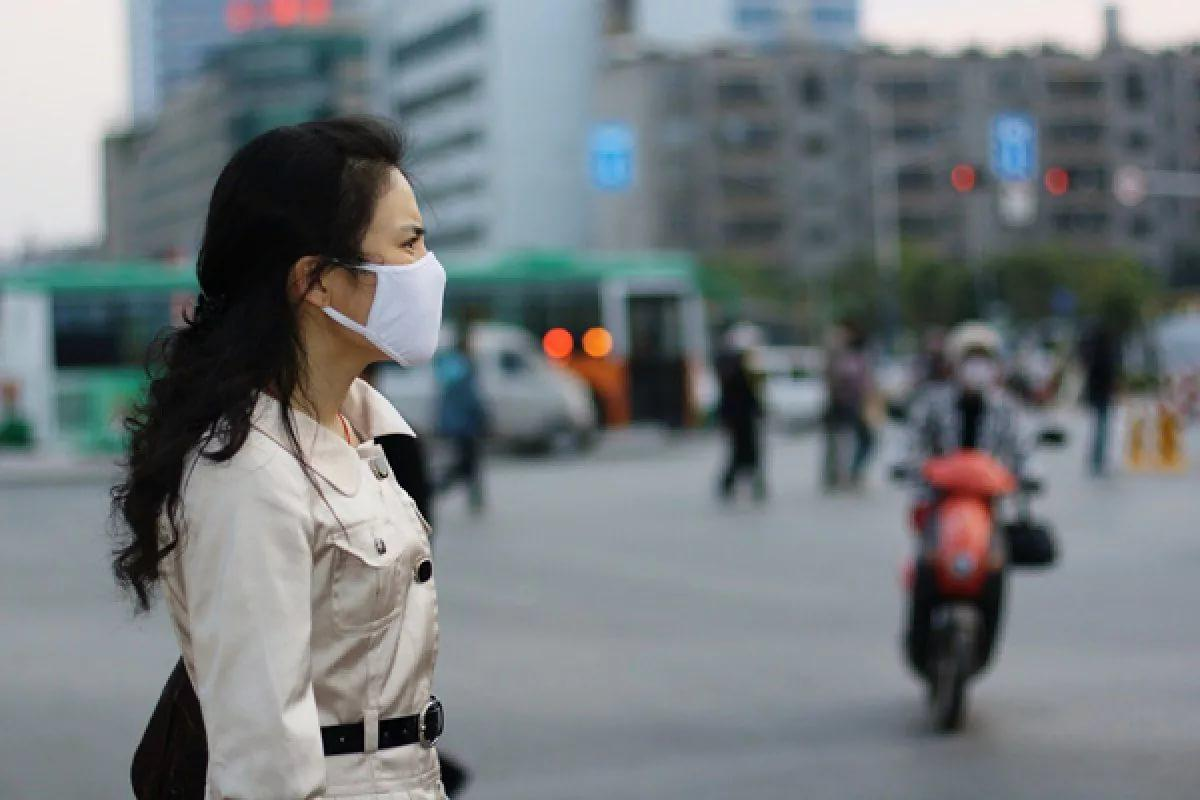mask: (318, 165, 449, 371)
